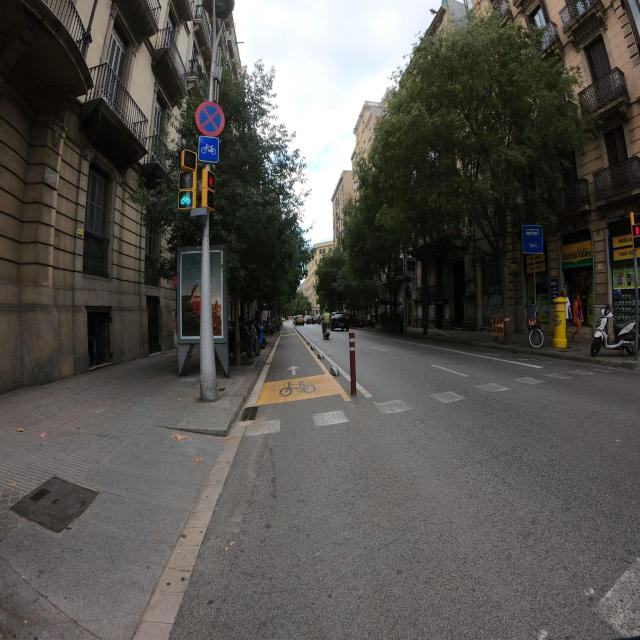bike: (590, 304, 638, 358), (526, 312, 546, 349), (321, 318, 332, 340)
car: (329, 311, 350, 333), (294, 314, 305, 327)
